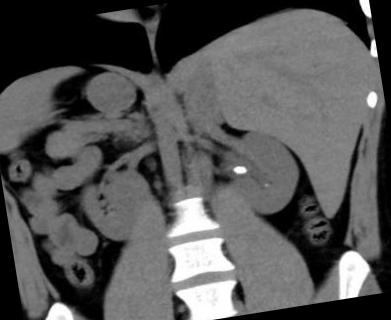Tas_Var: (228, 162, 248, 176), (262, 182, 269, 188)
